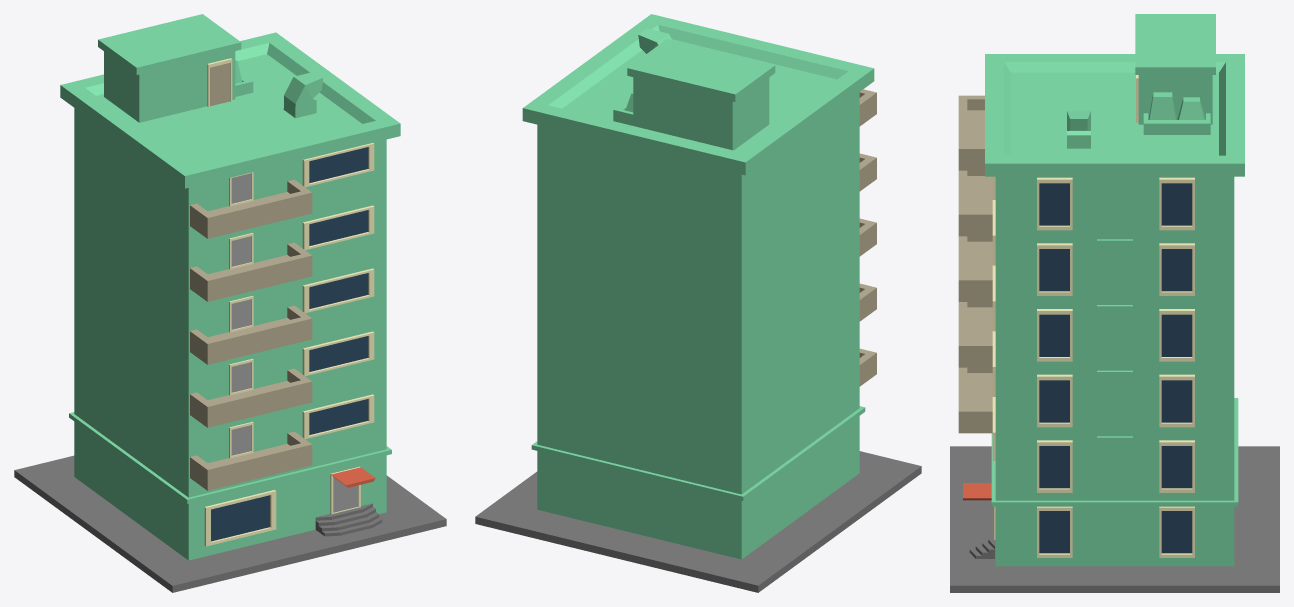
Rendered from hotel.fbx.
3 renders of one model, left to right at view 1: azimuth 30°, elevation 25°; view 2: azimuth 150°, elevation 25°; view 3: azimuth 270°, elevation 25°, orthographic. The views are drawn at different scales.
Parts seen in each view (by area): view 1: hotel; view 2: hotel; view 3: hotel.
Boxes of the visible parts, left/top/right/bottom form: hotel: left=14, top=14, right=446, bottom=592; hotel: left=475, top=14, right=921, bottom=592; hotel: left=950, top=14, right=1279, bottom=592.
Size of the model in its own units: 142 by 222 by 142.
